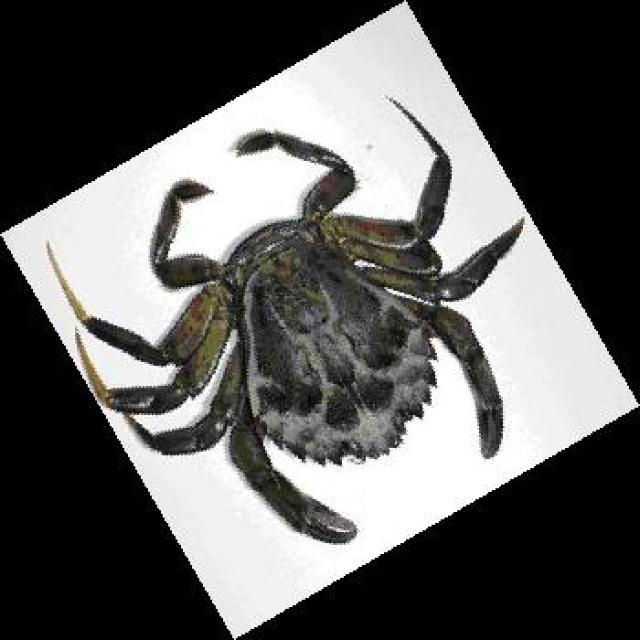European Green crab: (48, 99, 523, 541)
